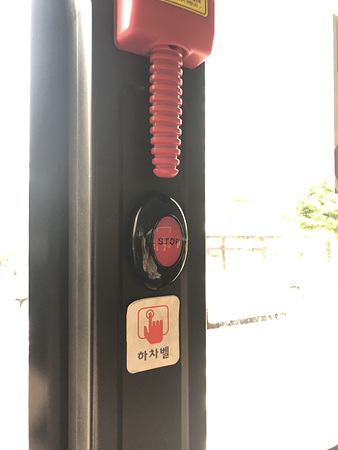bell: (131, 196, 190, 291)
